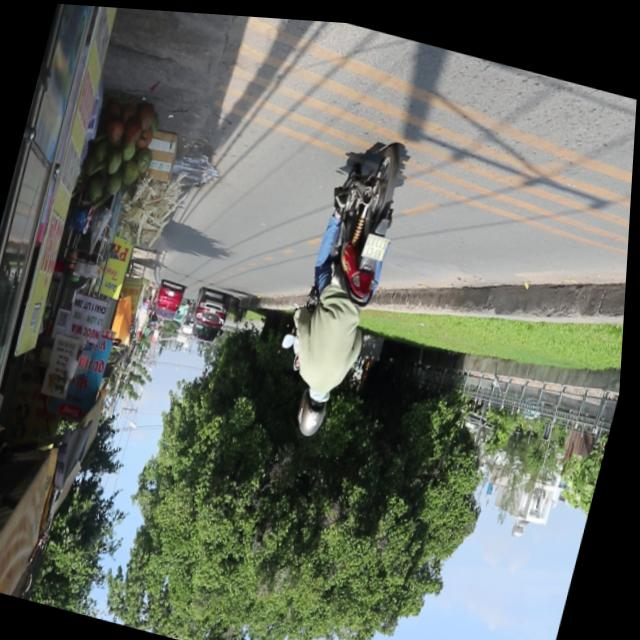helmet: (298, 381, 337, 435)
licenseplate: (271, 123, 420, 445)
nohelmet: (363, 228, 392, 257)
